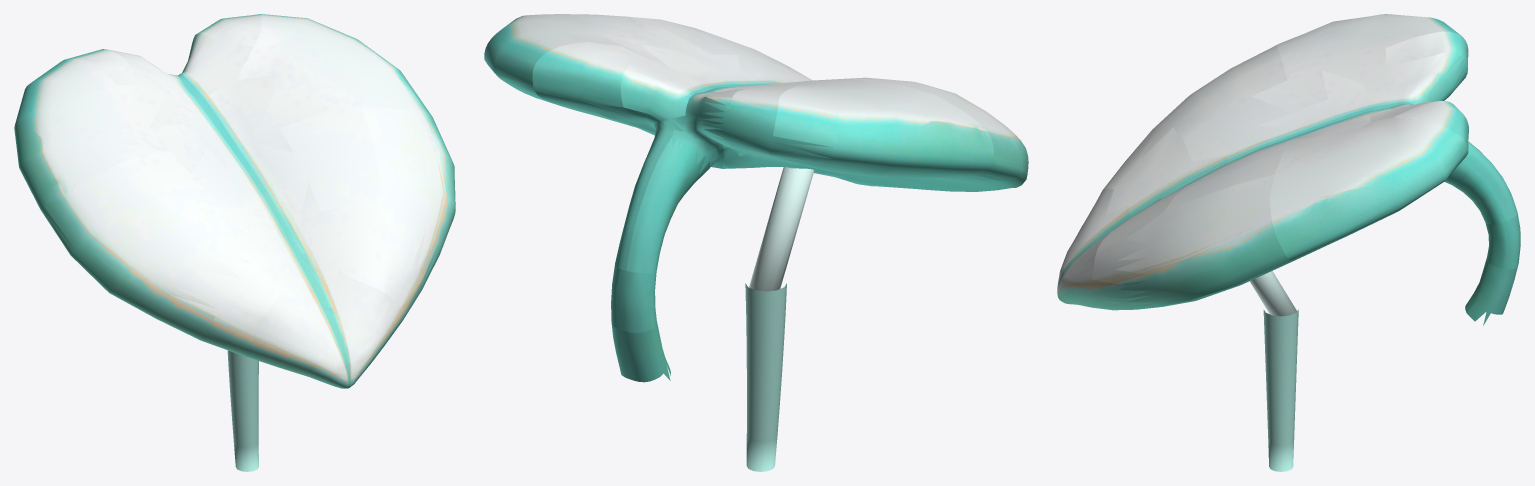
File: monstera_leaf_fullalbo_v1.glb
The picture shows the model from 3 angles, left to right: view 1: azimuth 30°, elevation 25°; view 2: azimuth 150°, elevation 25°; view 3: azimuth 270°, elevation 25°; orthographic projection. The views are drawn at different scales.
Parts seen in each view (by area): view 1: g1, g0; view 2: g1, g0, petiole_link; view 3: g1, g0, petiole_link.
Part boxes in pixels (x1,y1,x2,y2): g1: (14, 14, 455, 388); g0: (227, 350, 258, 471); g1: (484, 14, 1028, 382); g0: (745, 283, 786, 471); petiole_link: (749, 167, 814, 291); g1: (1057, 14, 1520, 325); g0: (1263, 309, 1298, 471); petiole_link: (1249, 271, 1296, 316).
Bounding box in the file's own units: 2 × 1.85 × 2.
Materials: 3 (1 with a texture image).
